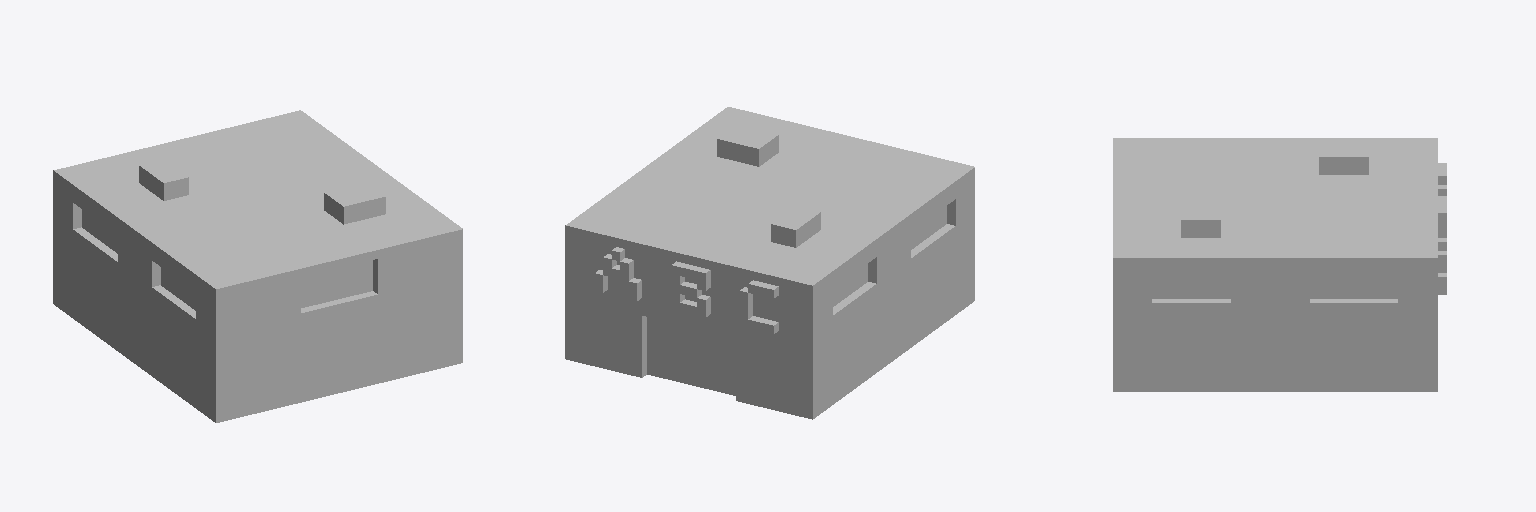
The model's file is ABC.obj.
The picture shows the model from 3 angles: view 1: azimuth 30°, elevation 25°; view 2: azimuth 150°, elevation 25°; view 3: azimuth 270°, elevation 25°; orthographic projection.
Size of the model in its own units: 29 by 17 by 34.